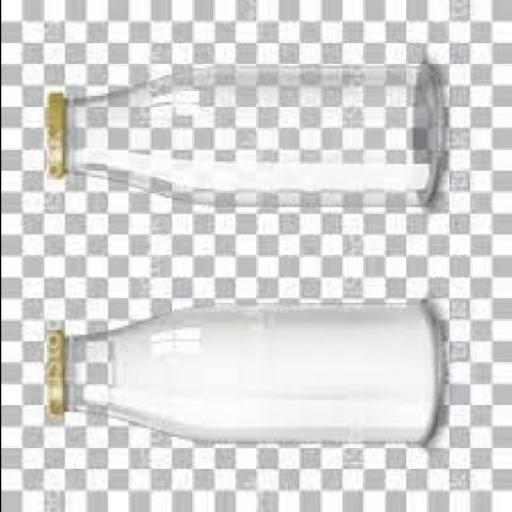glass: (62, 66, 446, 210), (61, 307, 442, 446)
metal: (42, 96, 64, 182), (43, 335, 62, 418)
